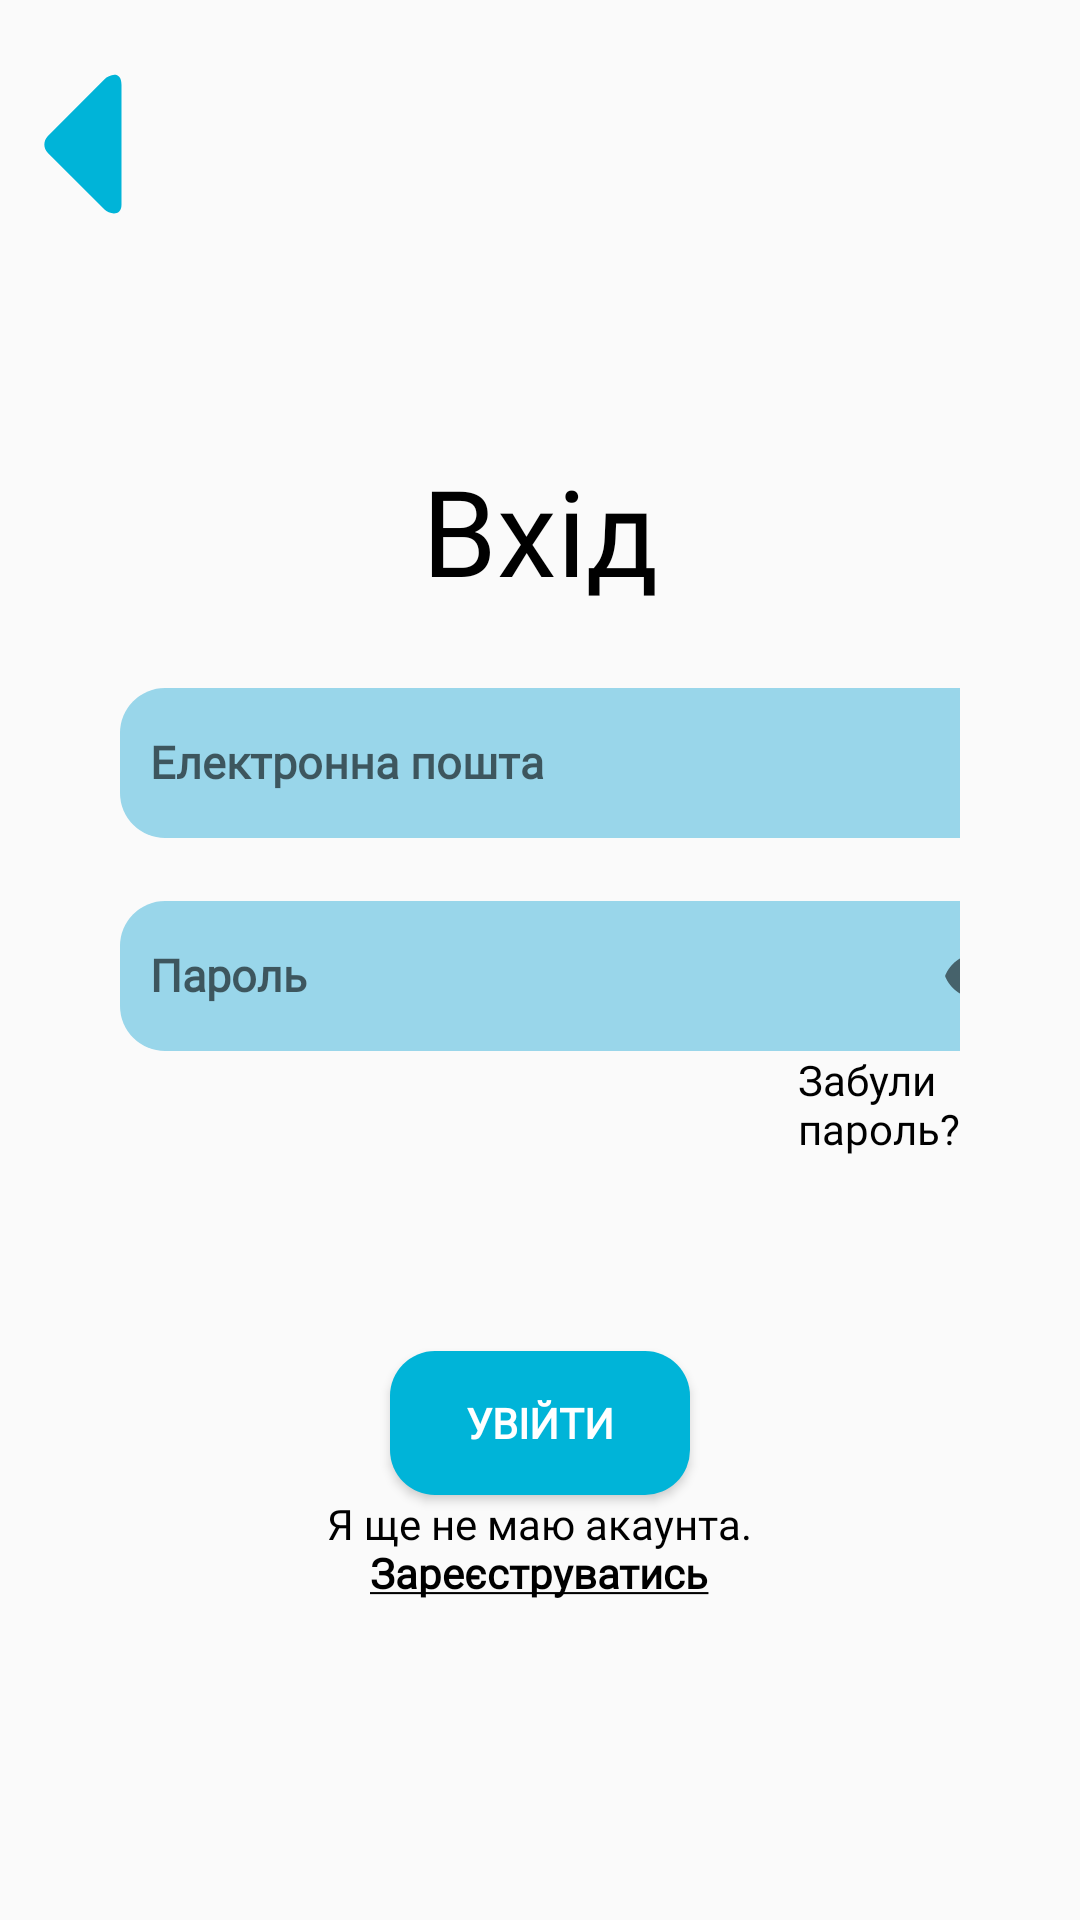

Screen size 1080*1920. Icon name, then its center in pixels as (x,y):
back: (83,144)
